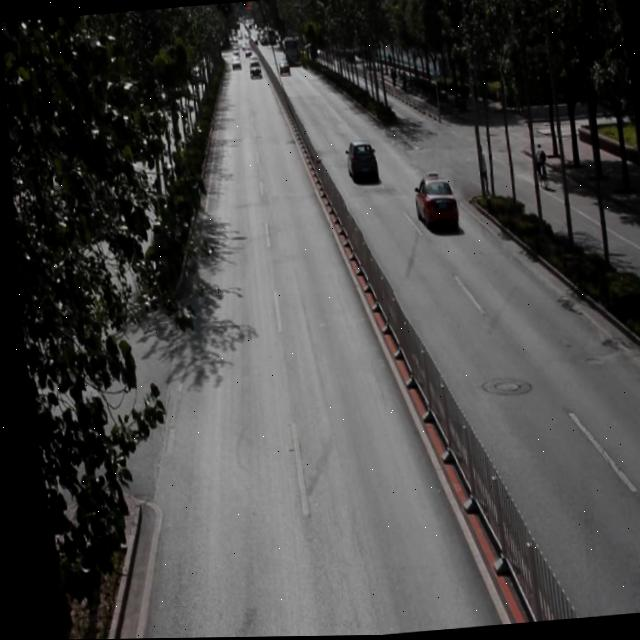car: (407, 172, 457, 235), (340, 138, 377, 187)
